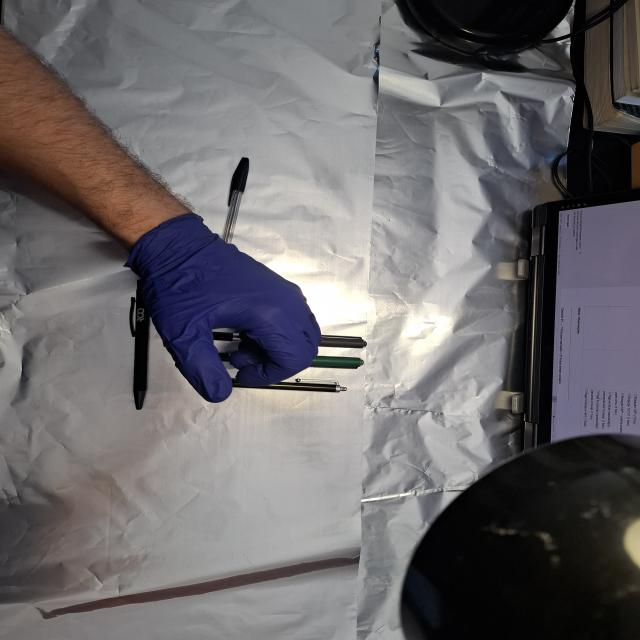glove_on: (125, 212, 325, 405)
